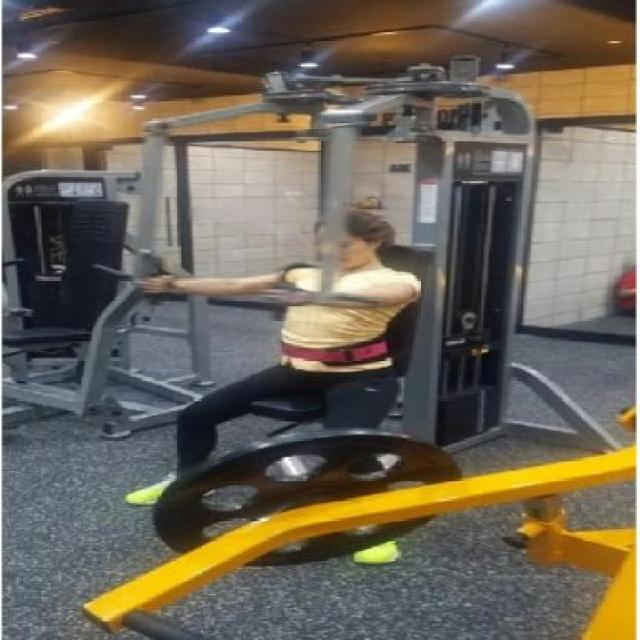chest fly machine: (66, 42, 603, 590)
